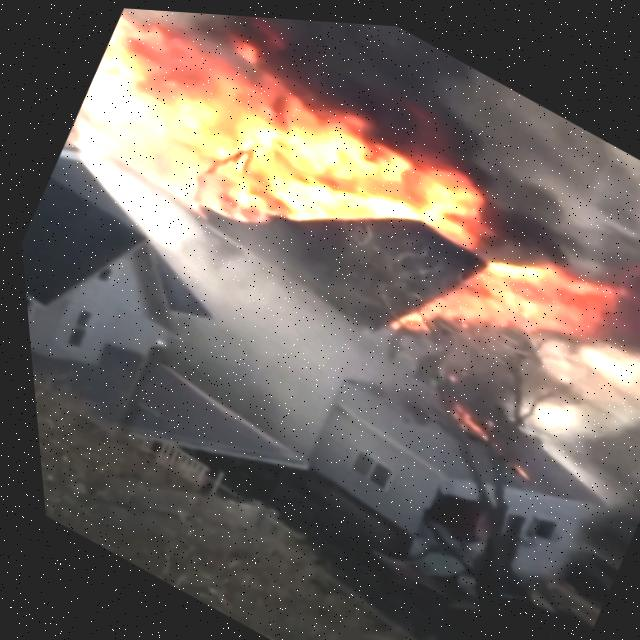Fire: (52, 3, 517, 341), (416, 175, 640, 447)
Smoke: (134, 7, 640, 267)
